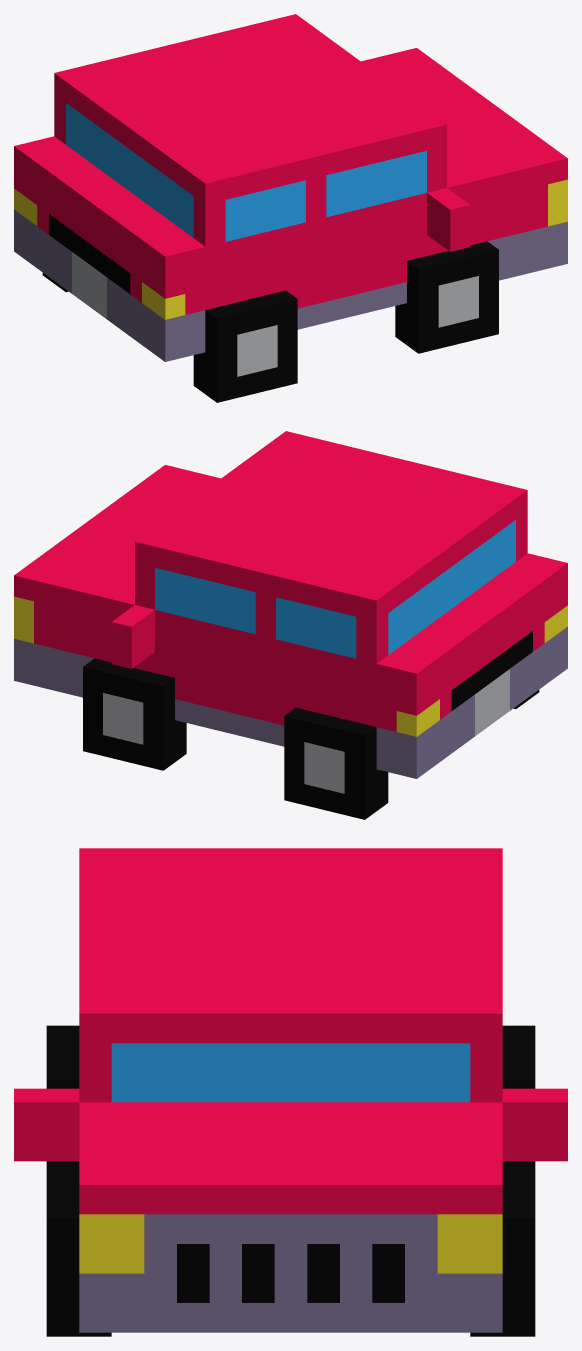
The model's file is car_a.obj.
3 views of the same model, one above another, from view 1: azimuth 30°, elevation 25°; view 2: azimuth 150°, elevation 25°; view 3: azimuth 270°, elevation 25° (orthographic). The views are drawn at different scales.
Bounding box in the file's own units: 2 × 1 × 1.7.
Materials: 1 (1 with a texture image).
